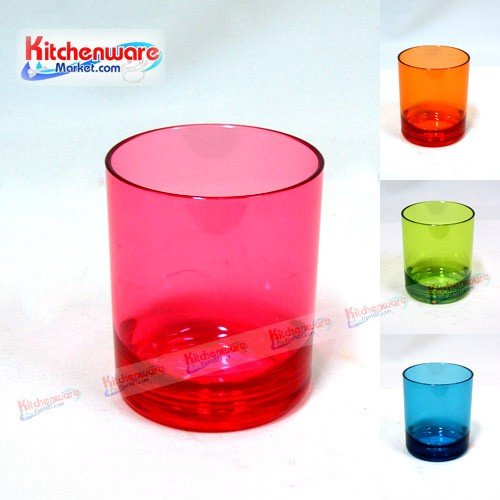plastic_glass: (57, 89, 334, 464), (367, 341, 492, 491), (365, 190, 491, 333), (372, 23, 489, 174)
